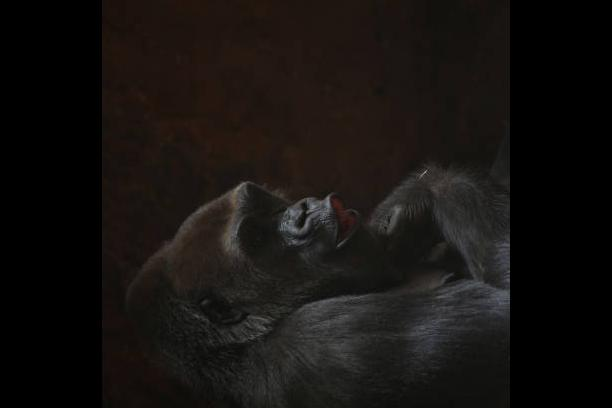gorille_Autres: (105, 149, 510, 408)
